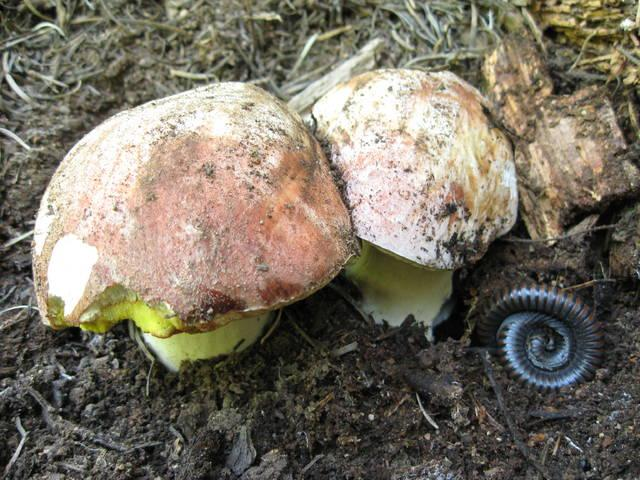edible_mushroom: (30, 79, 361, 374), (308, 66, 519, 343)
